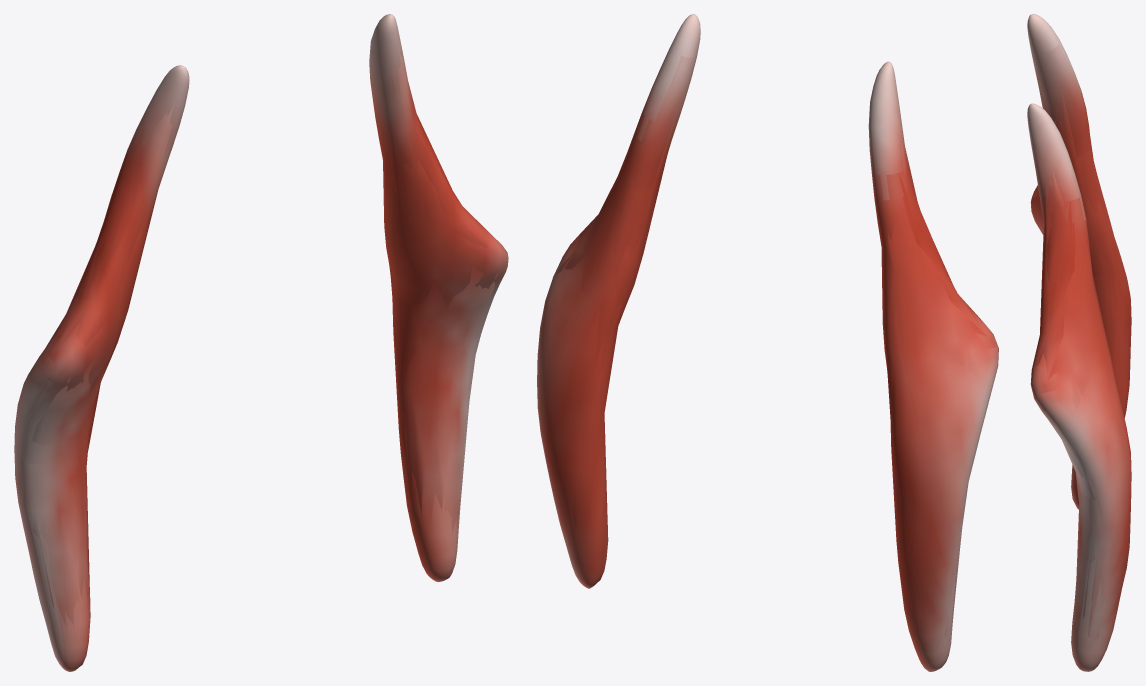
File: digastricus.fbx
The picture shows the model from 3 angles, left to right: view 1: azimuth 30°, elevation 25°; view 2: azimuth 150°, elevation 25°; view 3: azimuth 270°, elevation 25°; orthographic projection. The views are drawn at different scales.
Visible parts, largest first — view 1: digastricus low, digastricus; view 2: digastricus, digastricus low; view 3: digastricus, digastricus low.
Boxes of the visible parts, box(x1,y1,x2,y2) form: digastricus low: box(18, 48, 498, 652); digastricus: box(14, 14, 508, 671); digastricus: box(537, 14, 998, 671); digastricus low: box(538, 63, 998, 646); digastricus: box(1027, 14, 1131, 671); digastricus low: box(1030, 70, 1129, 652).
Size of the model in its own units: 17.46 by 21.7 by 3.84.
